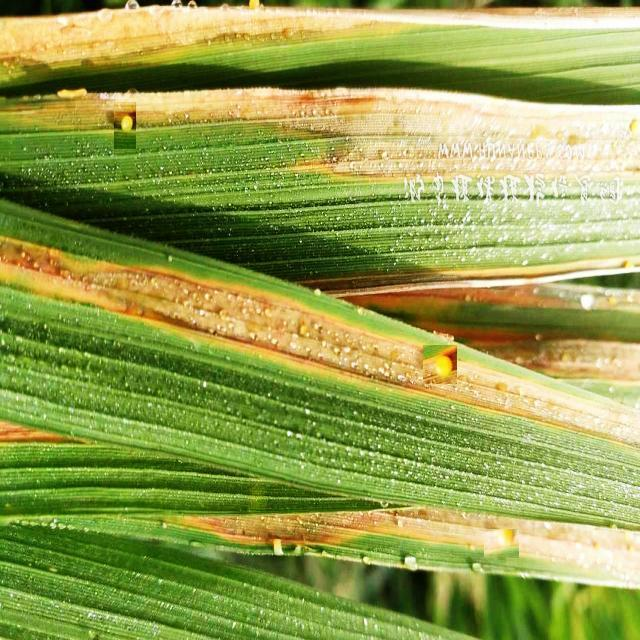whorl-maggot: (423, 345, 457, 384), (484, 530, 519, 560), (114, 102, 136, 149)
